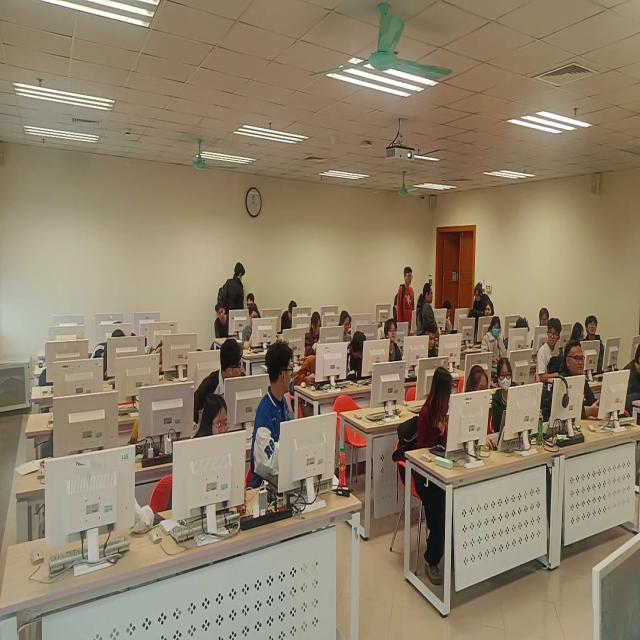raise_head: (484, 311, 515, 366), (382, 318, 411, 376), (212, 302, 250, 342), (589, 314, 603, 347), (483, 297, 498, 326), (537, 306, 551, 331)
sleep: (43, 390, 95, 464), (300, 339, 336, 402), (94, 326, 131, 384), (37, 347, 83, 393)
stand: (217, 259, 247, 340), (416, 281, 441, 373), (393, 258, 419, 341)
using_computer: (185, 387, 246, 519), (556, 346, 617, 433), (464, 364, 506, 458), (421, 324, 459, 370), (245, 308, 274, 357), (505, 314, 530, 360), (305, 313, 330, 356), (337, 309, 361, 350), (280, 298, 303, 340), (439, 303, 468, 336)
